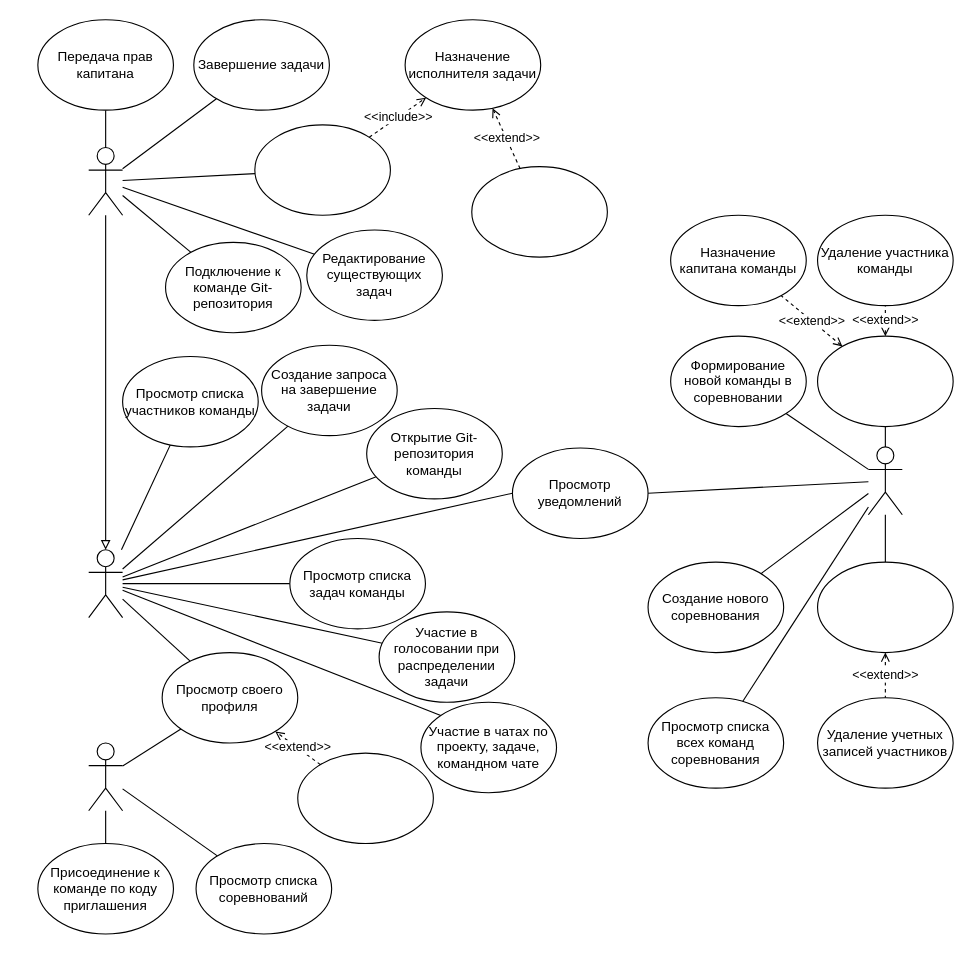
Image size: 973x954. Some labels were removed from this diagram. Each missing label, with the centre of its shape:
Капитан команды: (105,180)
Назначение исполнителя через голосование: (539,211)
Организатор: (884,480)
Пользователь без команды: (105,776)
Привязка учётной записи на github: (365,798)
Просмотр списка всех участников команды: (884,381)
Просмотр списка участников сорвенований: (884,607)
Создание новой задачи: (322,169)
Участник команды: (105,583)
